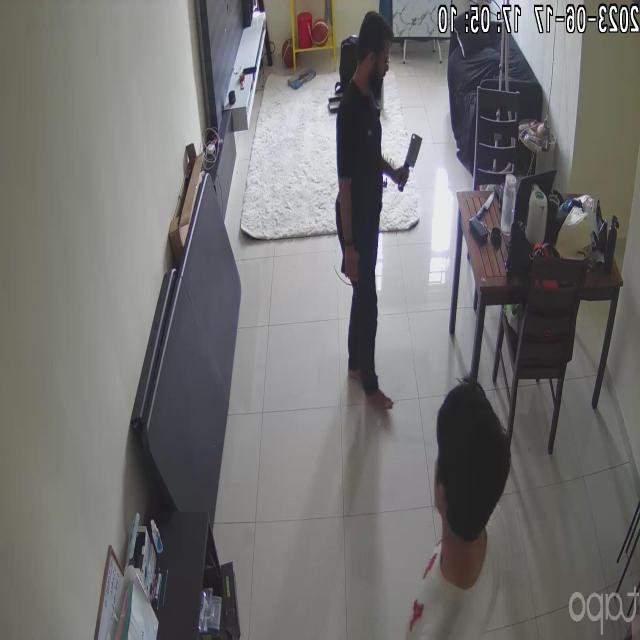Knife: (398, 125, 430, 186)
